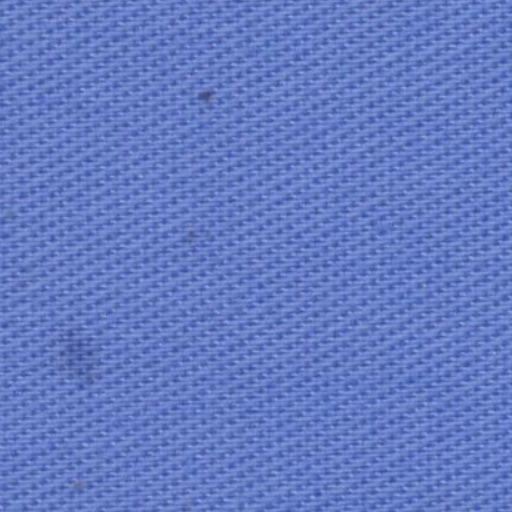WuZi: (52, 314, 116, 399), (168, 207, 216, 254), (182, 75, 229, 114)
